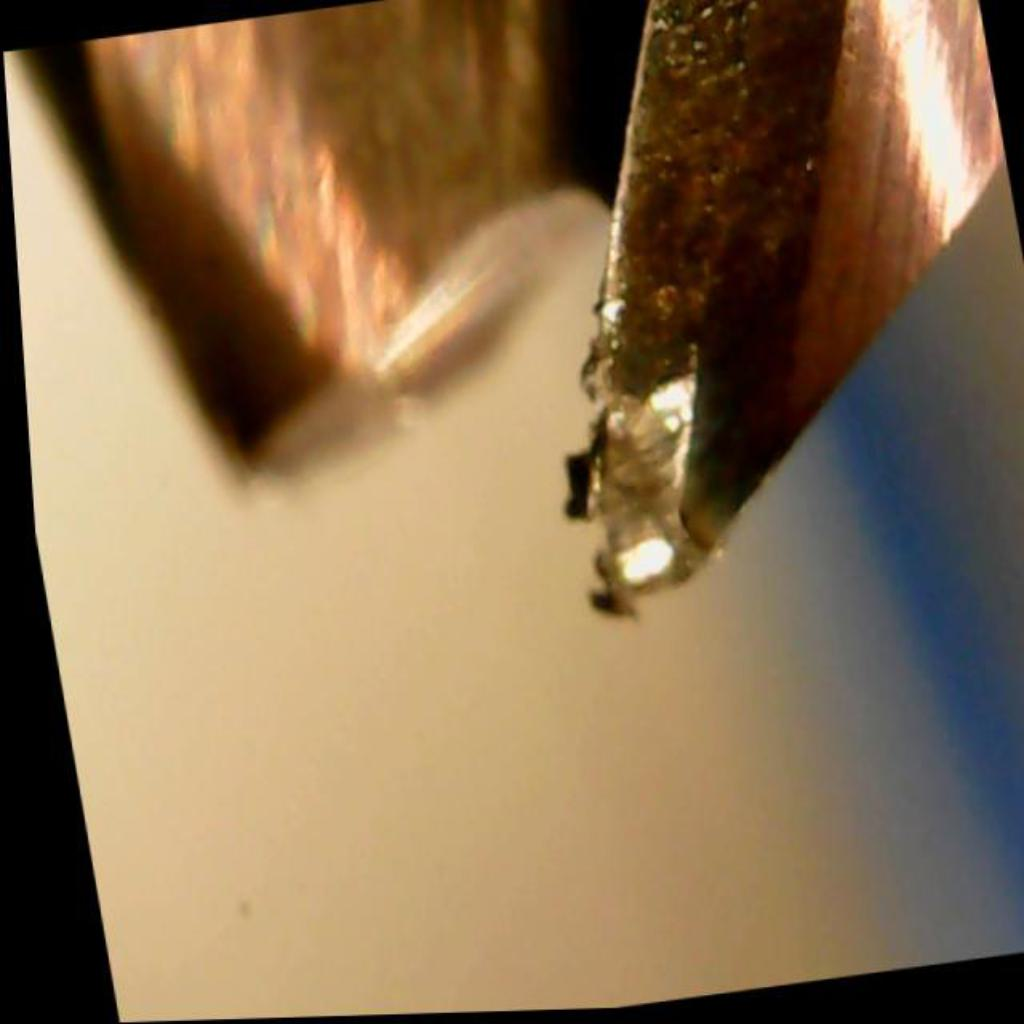Tool-wear-class-3: (461, 96, 876, 661)
